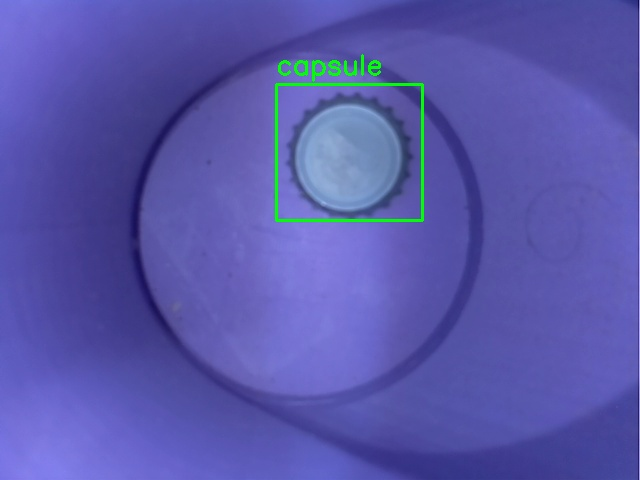capsule: (276, 84, 422, 220)
